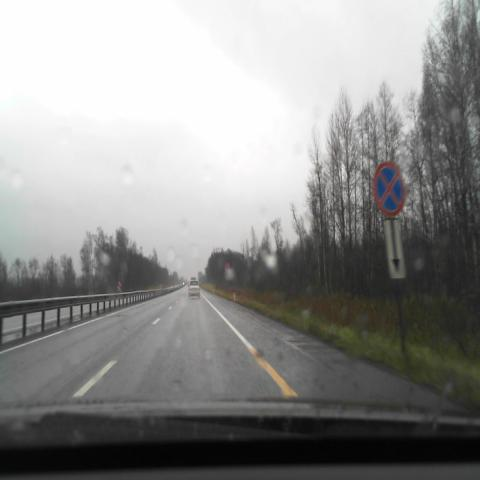8_2_3: (384, 219, 406, 278)
